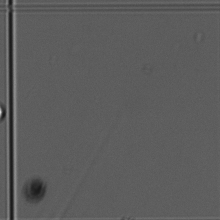Dead Cell: (22, 176, 48, 202)
Living Cell: (1, 103, 8, 122)
